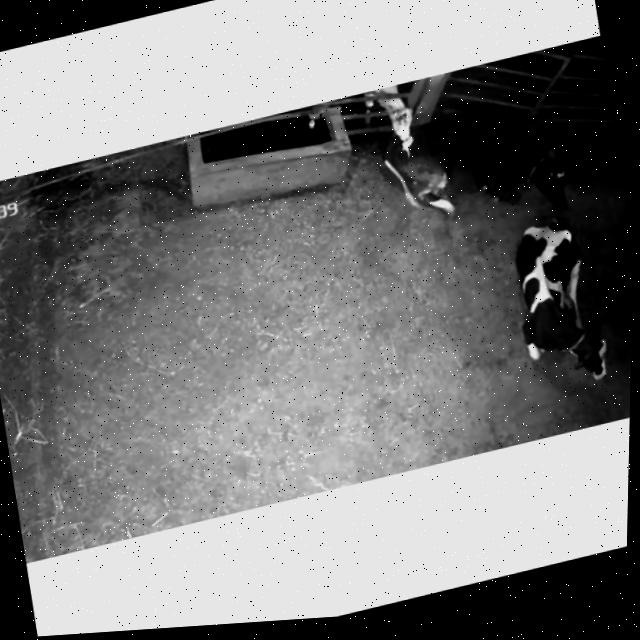lay: (374, 79, 596, 253), (495, 200, 622, 404)
